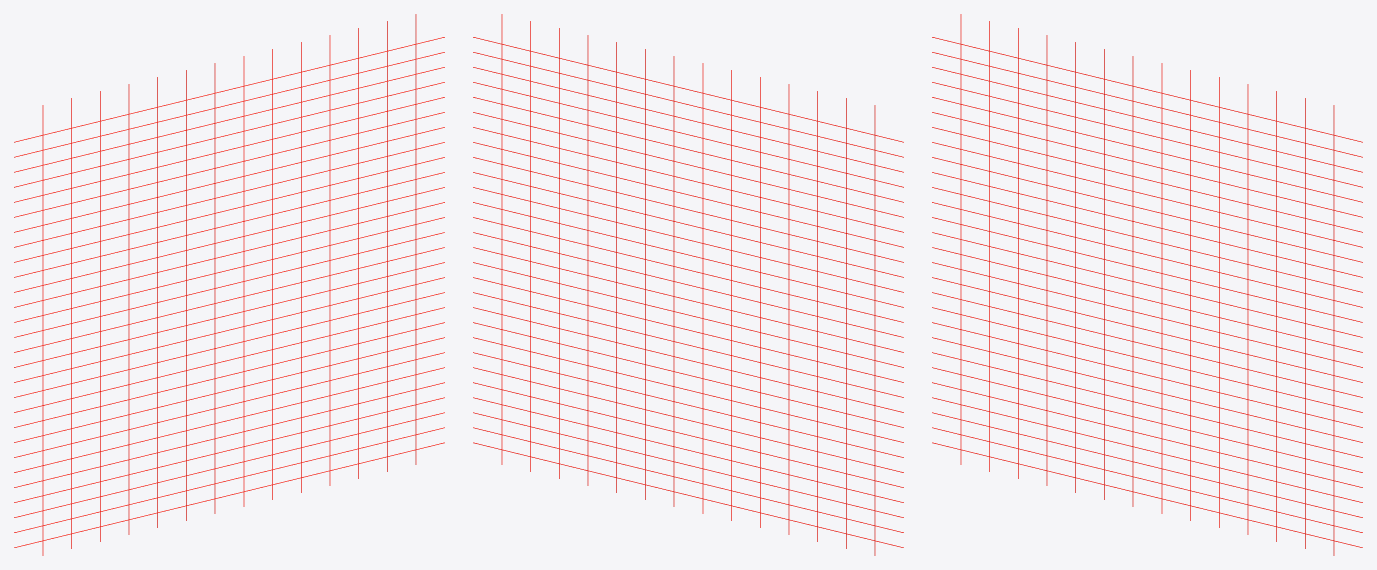
3 views of the same model, side by side, from view 1: azimuth 30°, elevation 25°; view 2: azimuth 150°, elevation 25°; view 3: azimuth 330°, elevation 25° (orthographic).
Parts seen in each view (by area): view 1: Grid; view 2: Grid; view 3: Grid.
Boxes of the visible parts, box(x1,y1,x2,y2) form: Grid: box(14, 14, 444, 555); Grid: box(473, 14, 903, 555); Grid: box(932, 14, 1362, 555).
Size of the model in its own units: 30 by 30 by 0.0402.
